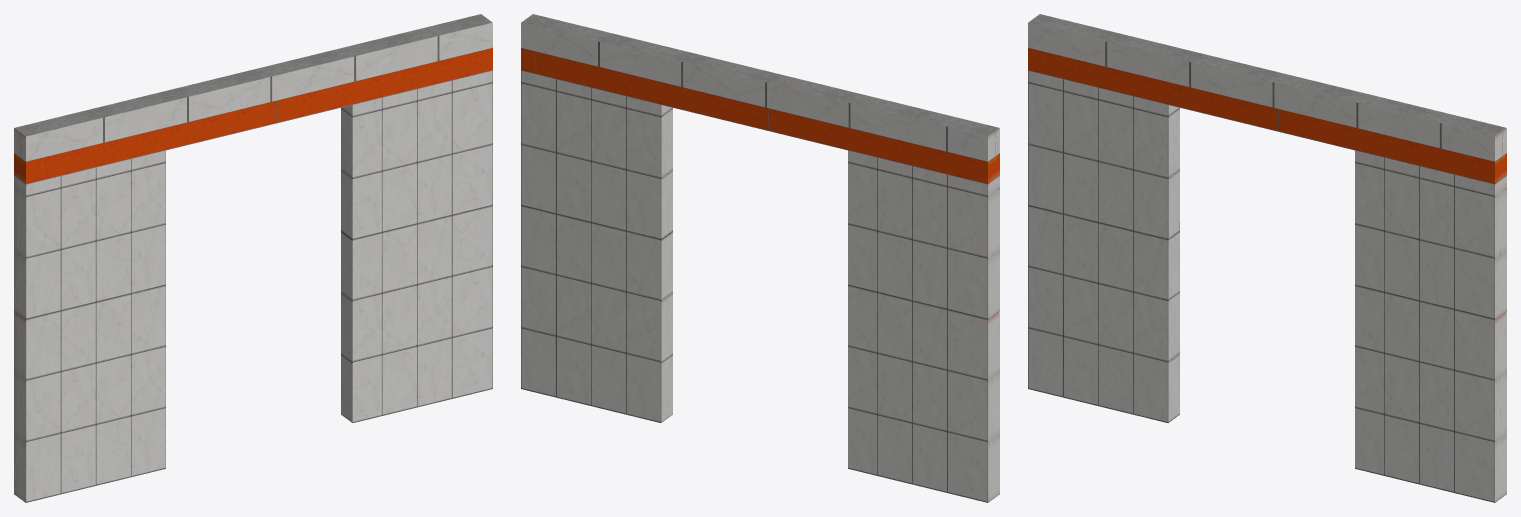
File: WallDoor_2.fbx
3 views of the same model, side by side, from view 1: azimuth 30°, elevation 25°; view 2: azimuth 150°, elevation 25°; view 3: azimuth 330°, elevation 25° (orthographic).
Visible parts, largest first — view 1: WallDoor_2; view 2: WallDoor_2; view 3: WallDoor_2.
Boxes of the visible parts, bbox=[...] form: WallDoor_2: bbox=[14, 14, 492, 502]; WallDoor_2: bbox=[521, 14, 999, 502]; WallDoor_2: bbox=[1028, 14, 1506, 502].
Bounding box in the file's own units: 4 × 3 × 0.175.
